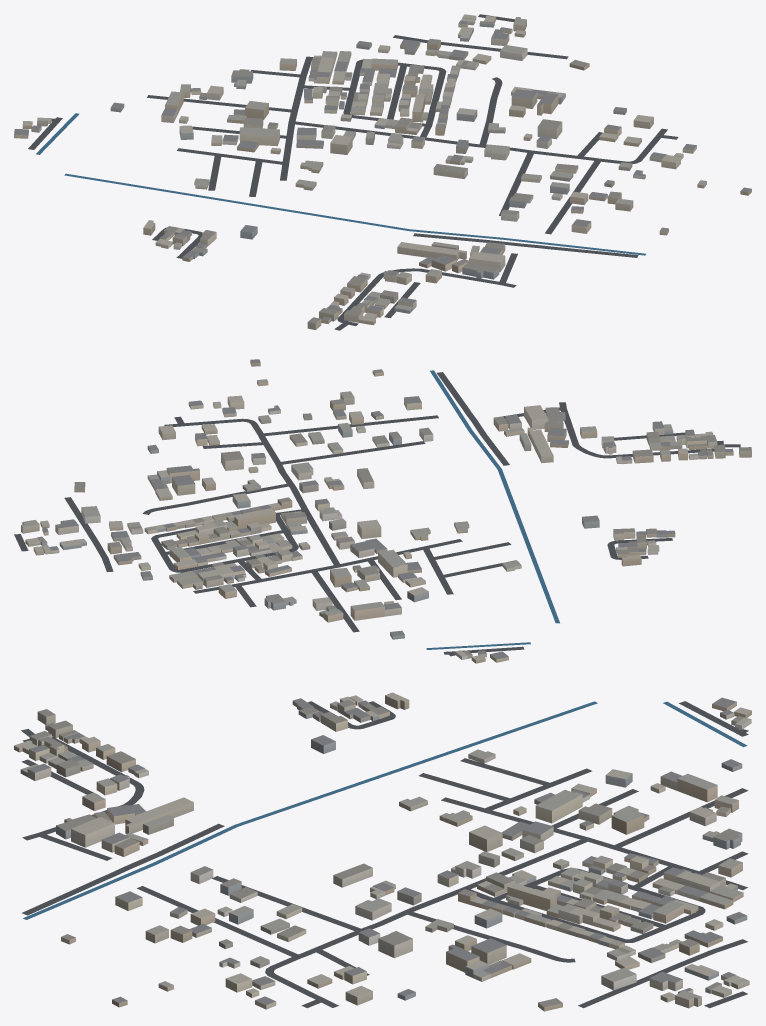
The picture shows the model from 3 angles, top to bottom: view 1: azimuth 30°, elevation 25°; view 2: azimuth 150°, elevation 25°; view 3: azimuth 270°, elevation 25°; orthographic projection. The views are drawn at different scales.
Visible parts, largest first — view 1: buildings_roofs, buildings_walls, roads, water; view 2: buildings_roofs, buildings_walls, roads, water; view 3: buildings_walls, buildings_roofs, roads, water.
Boxes of the visible parts, x1,y1,x2,y2 form: buildings_roofs: (14,14,751,323); buildings_walls: (14,16,751,329); roads: (28,14,678,330); water: (36,113,645,255); buildings_roofs: (21,359,751,660); buildings_walls: (21,360,751,663); roads: (14,372,740,656); water: (426,370,559,649); buildings_walls: (14,695,751,1011); buildings_roofs: (14,692,751,1007); roads: (21,701,748,1008); water: (23,701,747,919).
Size of the model in its own units: 512 by 9.63 by 512.
